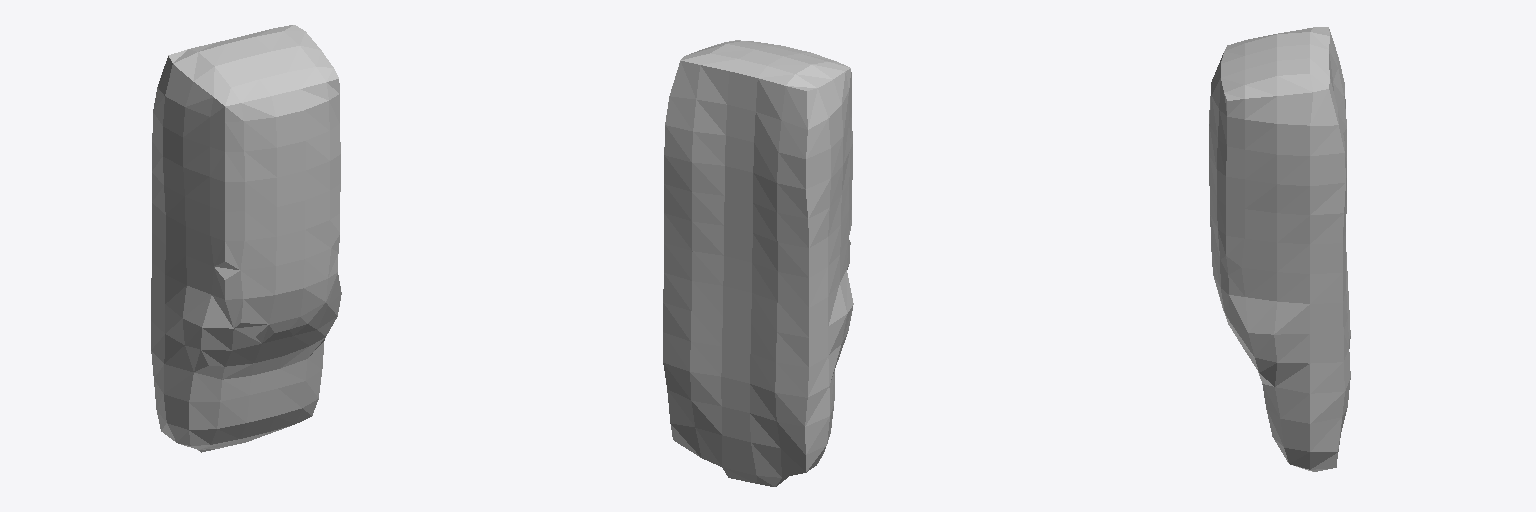
Rendered from suv_smooth.obj.
3 renders of one model, left to right at view 1: azimuth 30°, elevation 25°; view 2: azimuth 150°, elevation 25°; view 3: azimuth 270°, elevation 25°, orthographic.
Parts seen in each view (by area): view 1: 18576_SUV_Taxi_new; view 2: 18576_SUV_Taxi_new; view 3: 18576_SUV_Taxi_new.
Boxes of the visible parts, <box> form: 18576_SUV_Taxi_new: <box>151,25,341,452</box>; 18576_SUV_Taxi_new: <box>663,40,853,486</box>; 18576_SUV_Taxi_new: <box>1209,27,1350,471</box>.
Bounding box in the file's own units: 3.79 × 9.49 × 2.98.